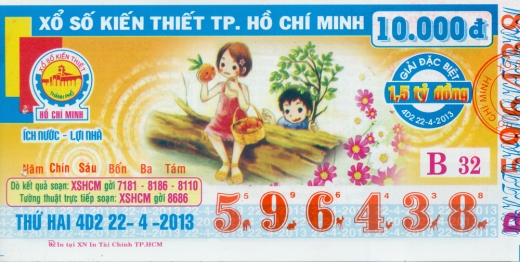serial_zone: (207, 185, 499, 238)
